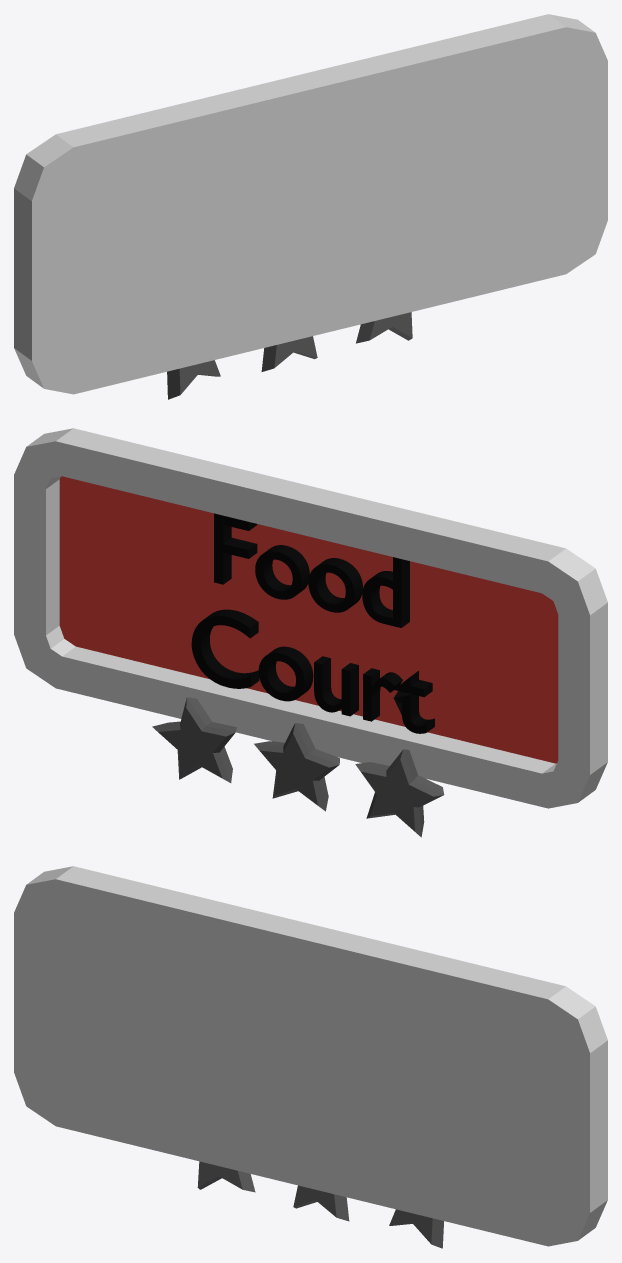
File: FoodCourtPlate.fbx
The picture shows the model from 3 angles, top to bottom: view 1: azimuth 30°, elevation 25°; view 2: azimuth 150°, elevation 25°; view 3: azimuth 330°, elevation 25°; orthographic projection.
Visible parts, largest first — view 1: FoodCourt, Star1, Star.2, Star.3; view 2: FoodCourt, Text, Star.3, Star.2, Star1; view 3: FoodCourt, Star.2, Star.3, Star1.
Boxes of the visible parts, x1,y1,x2,y2 form: FoodCourt: (14, 14, 607, 394); Star1: (356, 312, 412, 343); Star.2: (261, 336, 317, 371); Star.3: (167, 360, 220, 399); FoodCourt: (14, 428, 607, 808); Text: (191, 513, 434, 733); Star.3: (355, 749, 444, 837); Star.2: (254, 723, 339, 811); Star1: (152, 697, 236, 782); FoodCourt: (14, 866, 607, 1246); Star.2: (293, 1185, 349, 1221); Star.3: (197, 1161, 255, 1192); Star1: (389, 1209, 443, 1248).
Bounding box in the file's own units: 342 × 170 × 33.66.
